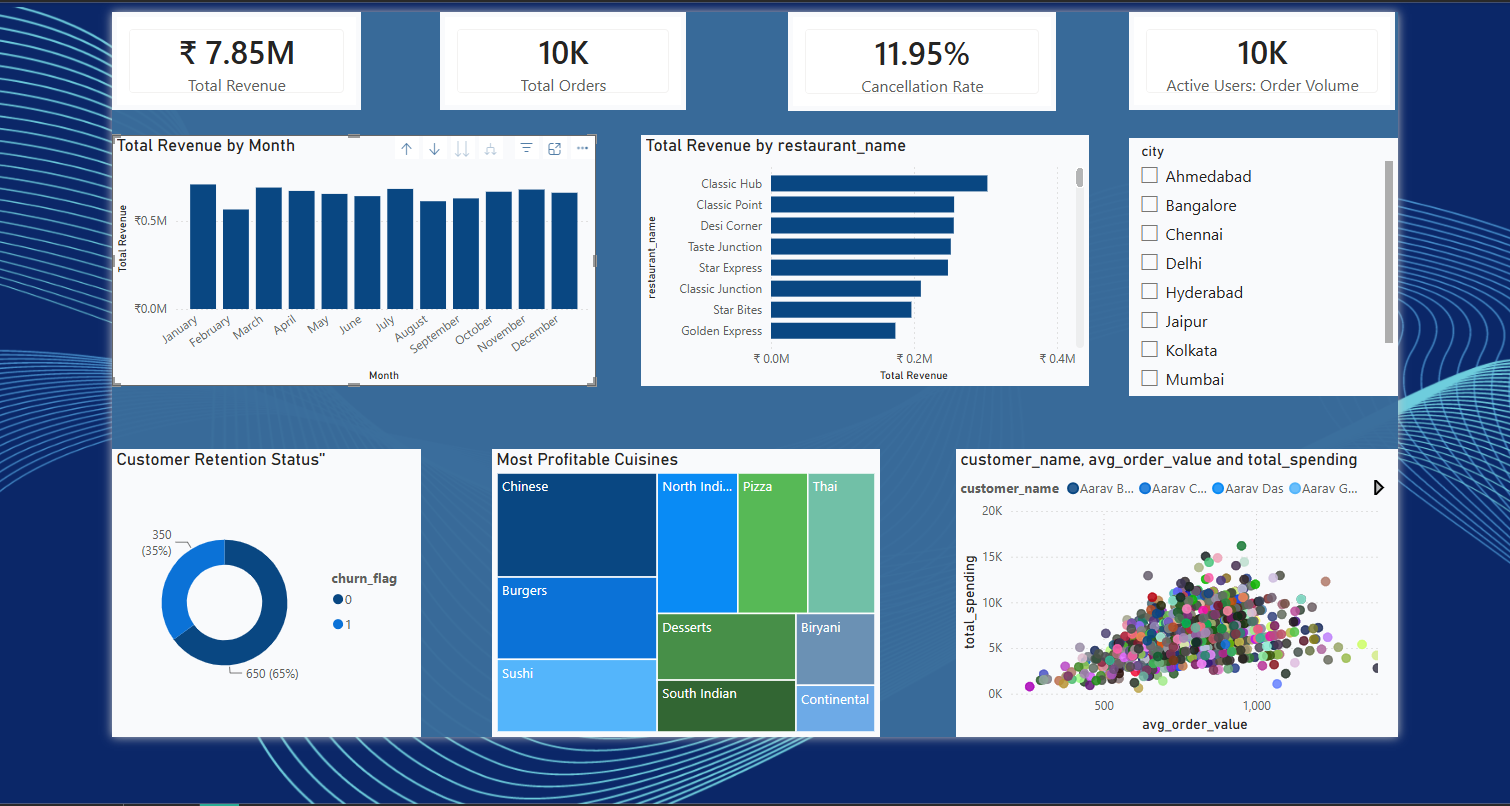

The page's visual inventory and layout, read from the dashboard file:
{"tool":"powerbi","page":{"name":"Page 1","canvas":[1286,725],"ordinal":0},"visuals":[{"type":"cardVisual","fields":{"Data":["customer.Cancellation Rate"]},"box":[676,0,268,99],"z":0},{"type":"cardVisual","fields":{"Data":["customer.Total Orders"]},"box":[328,0,246,98],"z":1000},{"type":"cardVisual","fields":{"Data":["customer.Total Revenue"]},"box":[0,0,249,98],"z":2000},{"type":"clusteredBarChart","fields":{"Category":["restaurants.restaurant_name"],"Y":["customer.Total Revenue"]},"box":[529,123,448,251],"z":4000},{"type":"cardVisual","fields":{"Data":["customer.Order Volume: Order Volume"]},"box":[1020,0,266,110],"z":4001},{"type":"clusteredColumnChart","fields":{"Y":["customer.Total Revenue"],"Category":["orders.order_time","orders.order_time.Variation.Date Hierarchy.Month"]},"box":[0,123,484,251],"z":4002},{"type":"slicer","fields":{"Values":["restaurants.city"]},"box":[1017,126,269,258],"z":4003},{"type":"donutChart","title":"Customer Retention Status\"","fields":{"Category":["customer_behavior.churn_flag"],"Y":["CountNonNull(customer.customer_id)"]},"box":[0,437,309,288],"z":4004},{"type":"treemap","title":"Most Profitable Cuisines","fields":{"Group":["restaurants.cuisine_type"],"Values":["customer.Total Revenue"]},"box":[380,437,388,288],"z":4005},{"type":"scatterChart","fields":{"X":["customer_behavior.avg_order_value"],"Y":["customer_behavior.total_spending"],"Series":["customer.customer_name"]},"box":[844,437,442,288],"z":4006}]}

Visuals, with their boxes on the page's 1286x725 design canvas (x1, y1, x2, y2). These are canvas units, not pixel positions in the 1510x806 screenshot, which may show the page scaled, cropped or inside an application window:
cardVisual - customer.Cancellation Rate: locate(676, 0, 944, 99)
cardVisual - customer.Total Orders: locate(328, 0, 574, 98)
cardVisual - customer.Total Revenue: locate(0, 0, 249, 98)
clusteredBarChart - restaurants.restaurant_name x customer.Total Revenue: locate(529, 123, 977, 374)
cardVisual - customer.Order Volume: Order Volume: locate(1020, 0, 1286, 110)
clusteredColumnChart - customer.Total Revenue x orders.order_time: locate(0, 123, 484, 374)
slicer - restaurants.city: locate(1017, 126, 1286, 384)
"Customer Retention Status"" donutChart: locate(0, 437, 309, 725)
"Most Profitable Cuisines" treemap: locate(380, 437, 768, 725)
scatterChart - customer_behavior.avg_order_value x customer_behavior.total_spending: locate(844, 437, 1286, 725)
